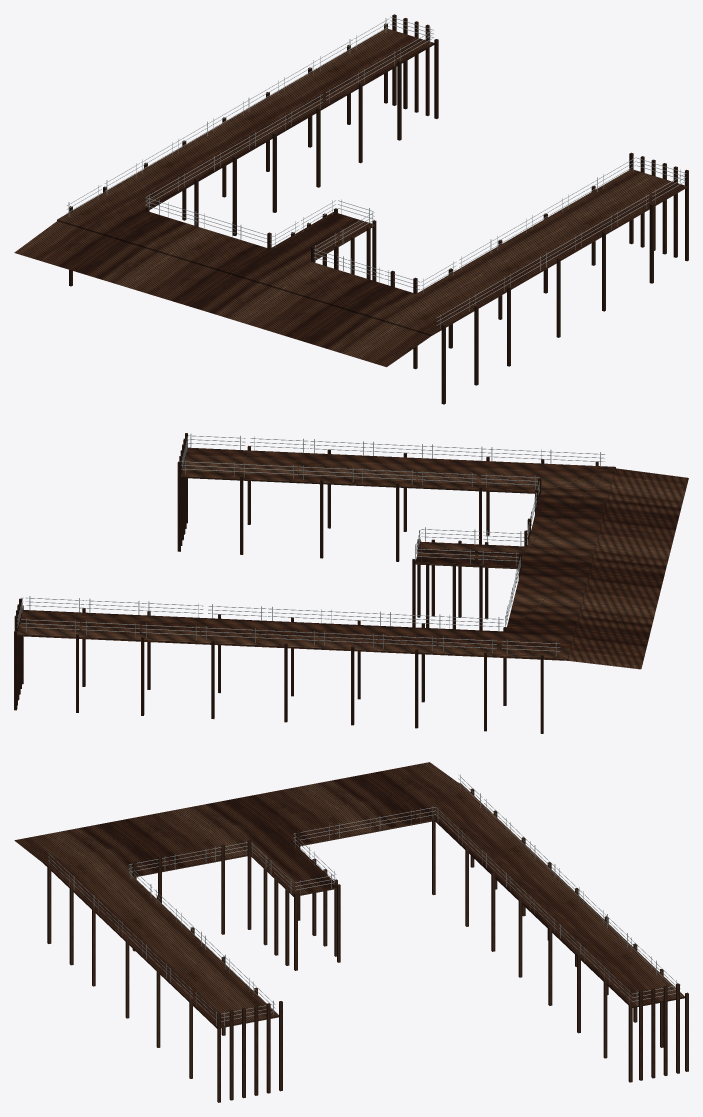
File: New_York_track_docks.dae
3 views of the same model, one above another, from view 1: azimuth 30°, elevation 25°; view 2: azimuth 150°, elevation 25°; view 3: azimuth 270°, elevation 25° (orthographic).
Parts seen in each view (by area): view 1: Docks_wood, Docks_metal; view 2: Docks_wood, Docks_metal; view 3: Docks_wood, Docks_metal.
Part boxes in pixels (x1=…): Docks_wood: x1=14, y1=14, x2=688, y2=404; Docks_metal: x1=66, y1=16, x2=686, y2=328; Docks_wood: x1=14, y1=433, x2=688, y2=733; Docks_metal: x1=17, y1=434, x2=605, y2=655; Docks_wood: x1=14, y1=762, x2=688, y2=1102; Docks_metal: x1=48, y1=774, x2=680, y2=1026.
Size of the model in its own units: 6.97 by 7.26 by 1.05.
2 materials, 2 textured.
